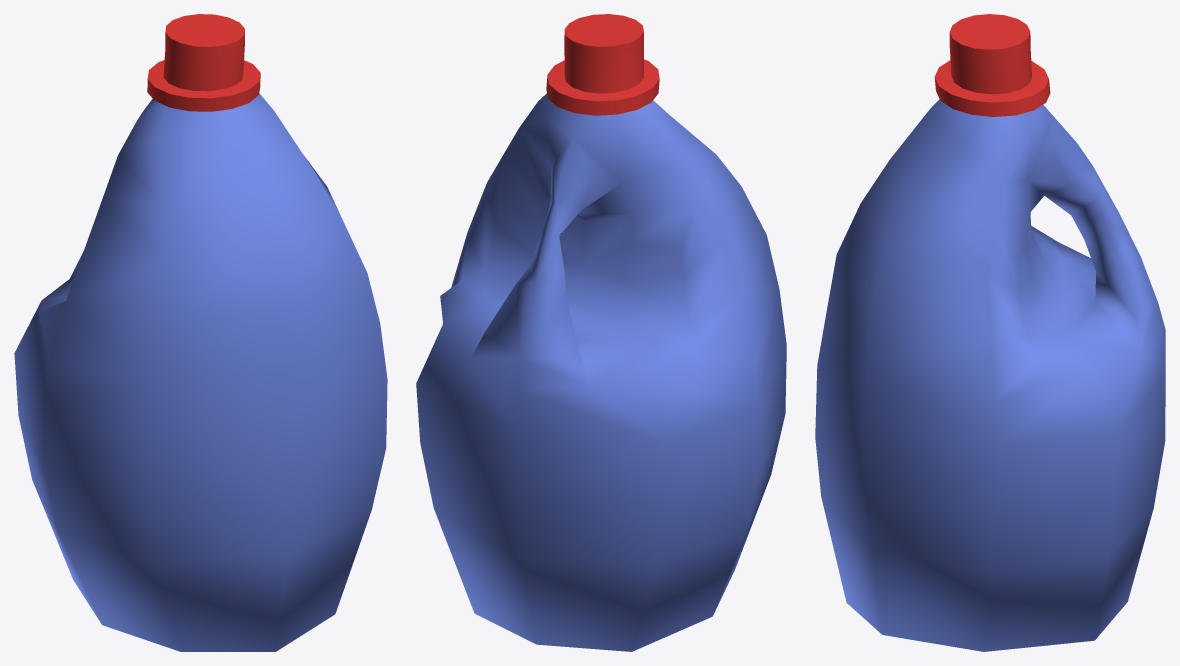
File: amaciante.fbx
3 views of the same model, side by side, from view 1: azimuth 30°, elevation 25°; view 2: azimuth 150°, elevation 25°; view 3: azimuth 270°, elevation 25° (orthographic).
Visible parts, largest first — view 1: Amaciante, Tampa; view 2: Amaciante, Tampa; view 3: Amaciante, Tampa.
Boxes of the visible parts, box(x1,y1,x2,y2) form: Amaciante: box(14, 93, 387, 651); Tampa: box(147, 14, 260, 111); Amaciante: box(416, 93, 786, 651); Tampa: box(546, 14, 659, 115); Amaciante: box(815, 99, 1165, 651); Tampa: box(934, 14, 1050, 116).
Bounding box in the file's own units: 223 × 386 × 214.
